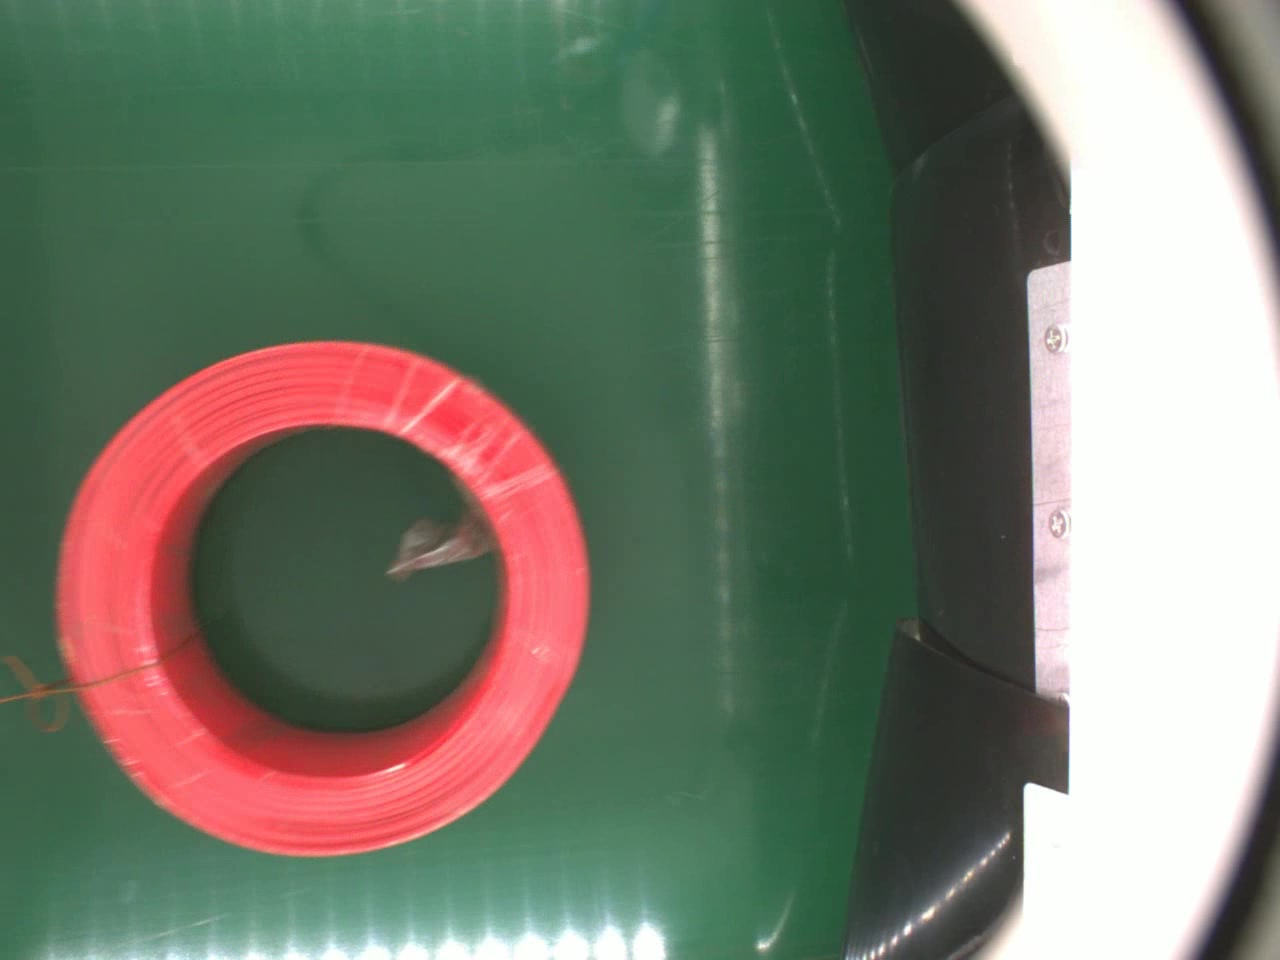red: (53, 337, 597, 863)
